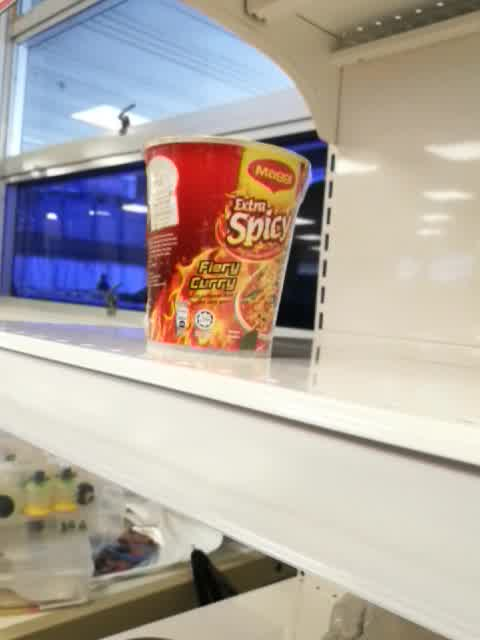maggi: (142, 136, 313, 367)
